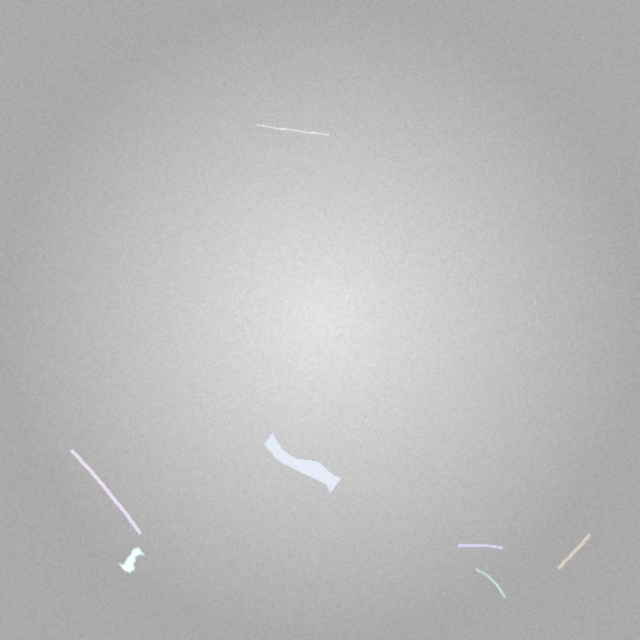fiber: (68, 447, 144, 537), (281, 356, 340, 415), (555, 532, 593, 571), (473, 566, 507, 599), (255, 123, 331, 137), (455, 542, 506, 551)
film: (263, 432, 343, 493), (119, 548, 145, 573)
